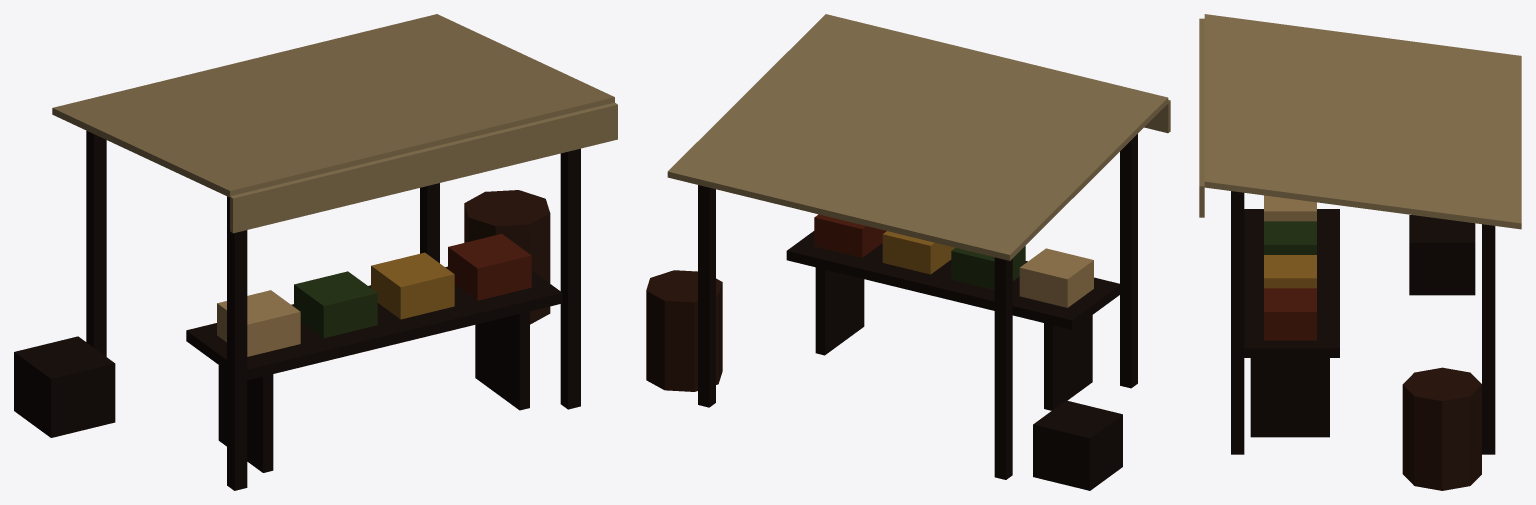
File: market_stall.fbx
3 renders of one model, left to right at view 1: azimuth 30°, elevation 25°; view 2: azimuth 150°, elevation 25°; view 3: azimuth 270°, elevation 25°, orthographic. The views are drawn at different scales.
Parts seen in each view (by area): view 1: market_stall; view 2: market_stall; view 3: market_stall.
Part boxes in pixels (x1,y1,x2,y2): market_stall: (14, 14, 617, 490); market_stall: (646, 14, 1170, 490); market_stall: (1199, 14, 1521, 490).
Size of the model in its own units: 4 by 2.35 by 2.44.
